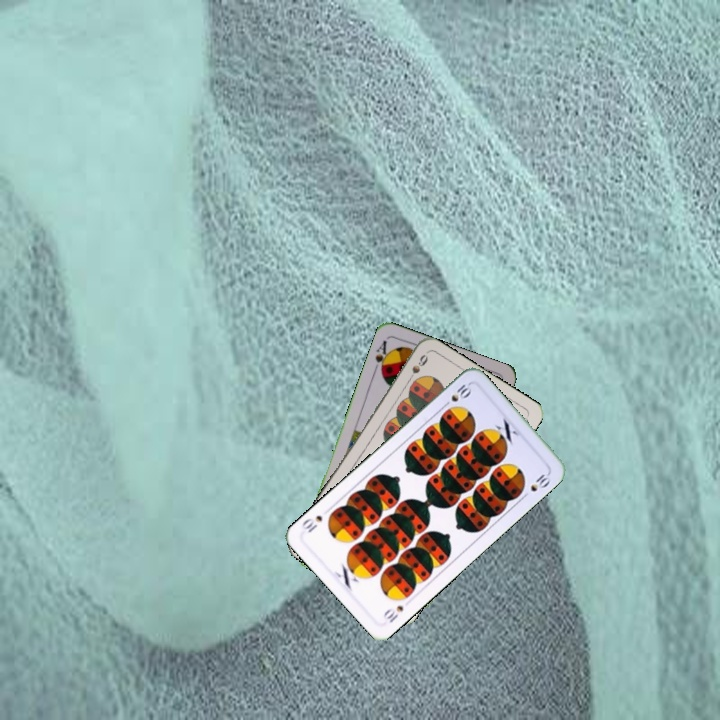S10: (439, 380, 474, 410), (379, 601, 406, 626)
S9: (403, 350, 431, 386)
SA: (369, 336, 393, 377)
